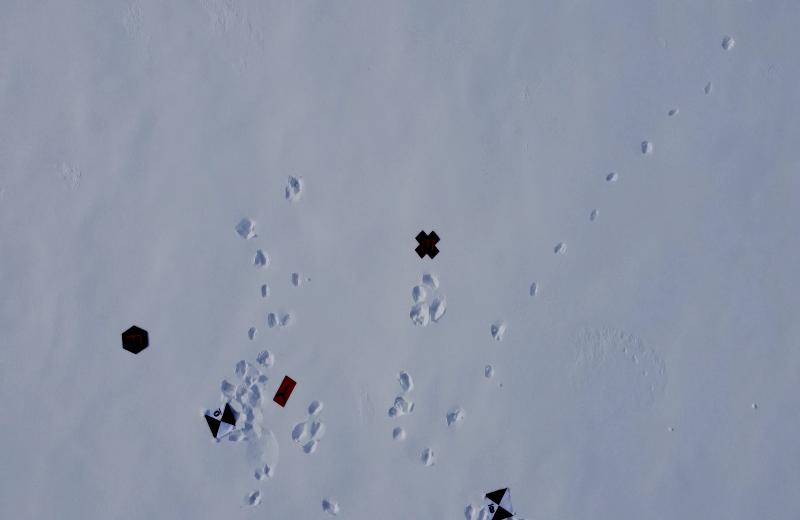Cross: (414, 230, 442, 260)
Hexagon: (121, 325, 150, 353)
Rectangle: (272, 372, 296, 408)
